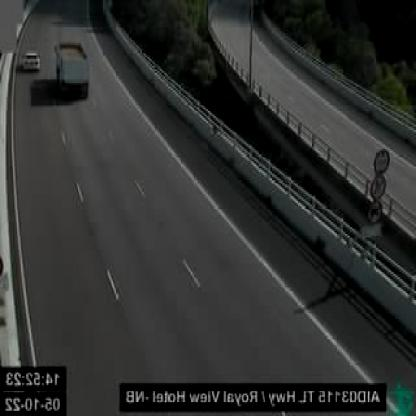Car: (24, 48, 40, 73)
Truck: (56, 42, 91, 99)
